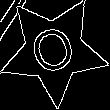O_S: (25, 19, 82, 82)
